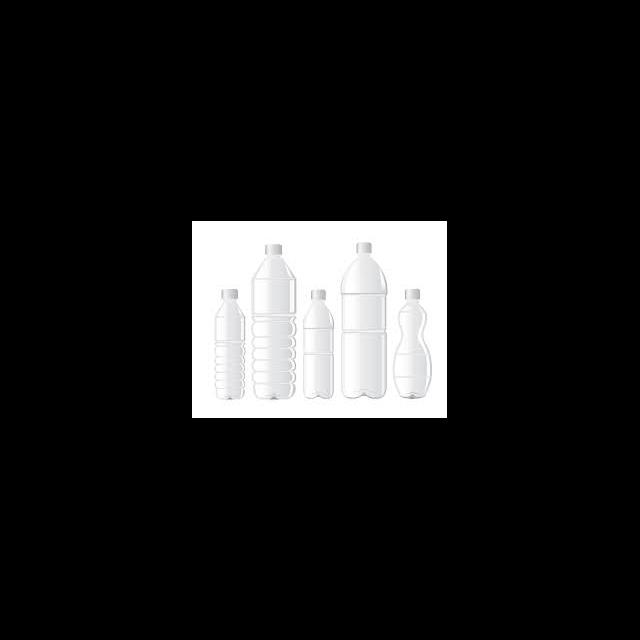plastic: (342, 242, 386, 398), (250, 243, 294, 399), (392, 288, 430, 398), (302, 290, 334, 398), (213, 288, 244, 399), (264, 243, 282, 256), (404, 288, 420, 300), (354, 242, 372, 252), (220, 288, 238, 298), (310, 290, 326, 300)
